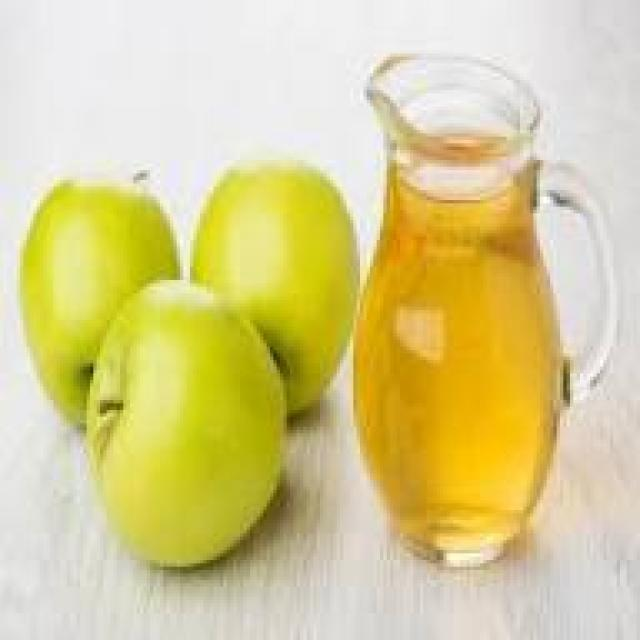apple: (80, 280, 283, 557), (193, 167, 360, 413), (17, 177, 176, 423)
